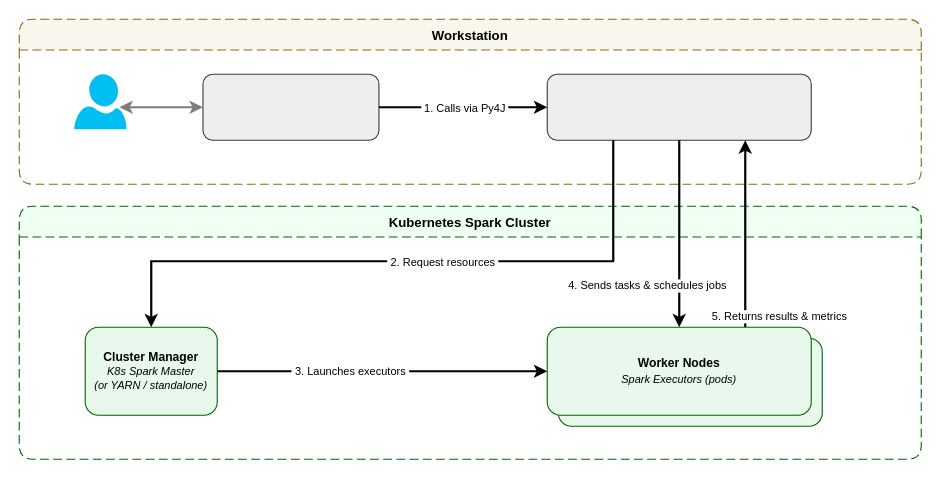
The diagram is 941 pixels wide and 479 high, and some of its shapes have lost their labels. The centre of each missing label's shape, as x and y in pixels:
"JVM Driver Spark Context (runs on client)" goes at pixel 678 106.
"Python Process PySpark script & code execution" goes at pixel 290 106.
